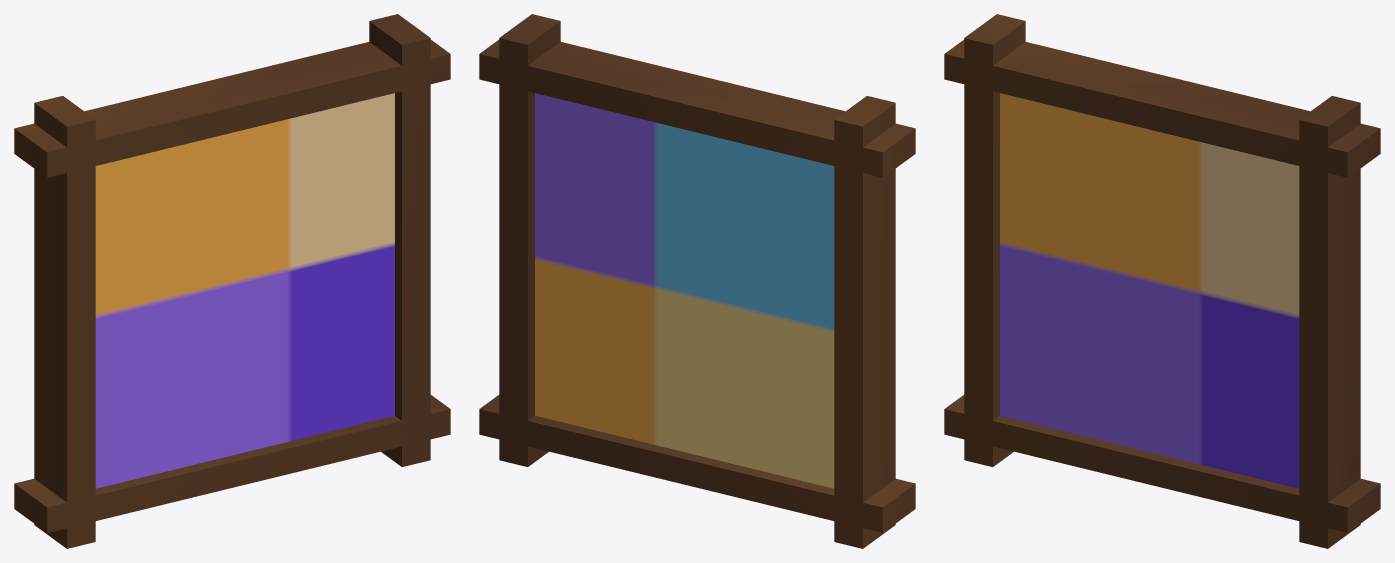
Rendered from Framed_01.fbx.
3 renders of one model, left to right at view 1: azimuth 30°, elevation 25°; view 2: azimuth 150°, elevation 25°; view 3: azimuth 330°, elevation 25°, orthographic.
Visible parts, largest first — view 1: Framed_01; view 2: Framed_01; view 3: Framed_01.
Boxes of the visible parts, box(x1,y1,x2,y2) form: Framed_01: box(14, 14, 450, 548); Framed_01: box(479, 14, 915, 548); Framed_01: box(944, 14, 1380, 548).
Size of the model in its own units: 1.11 by 1.11 by 0.1563.
